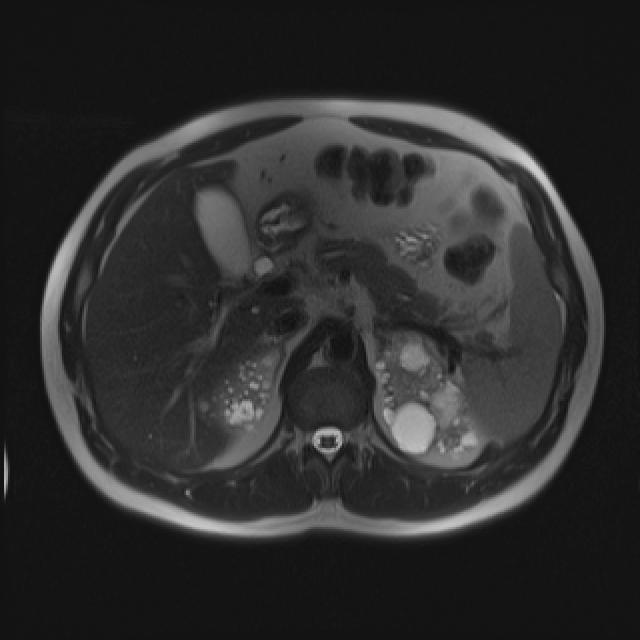sag: (198, 343, 285, 444)
sol: (375, 327, 479, 462)
